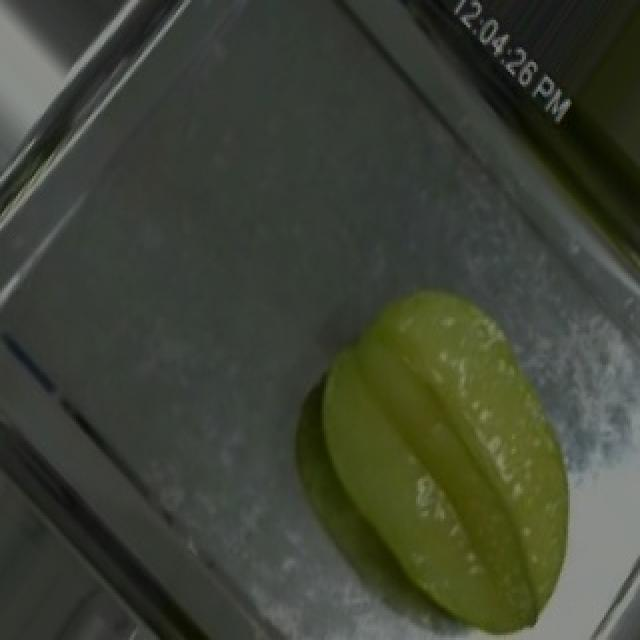fruit: (268, 230, 638, 640)
